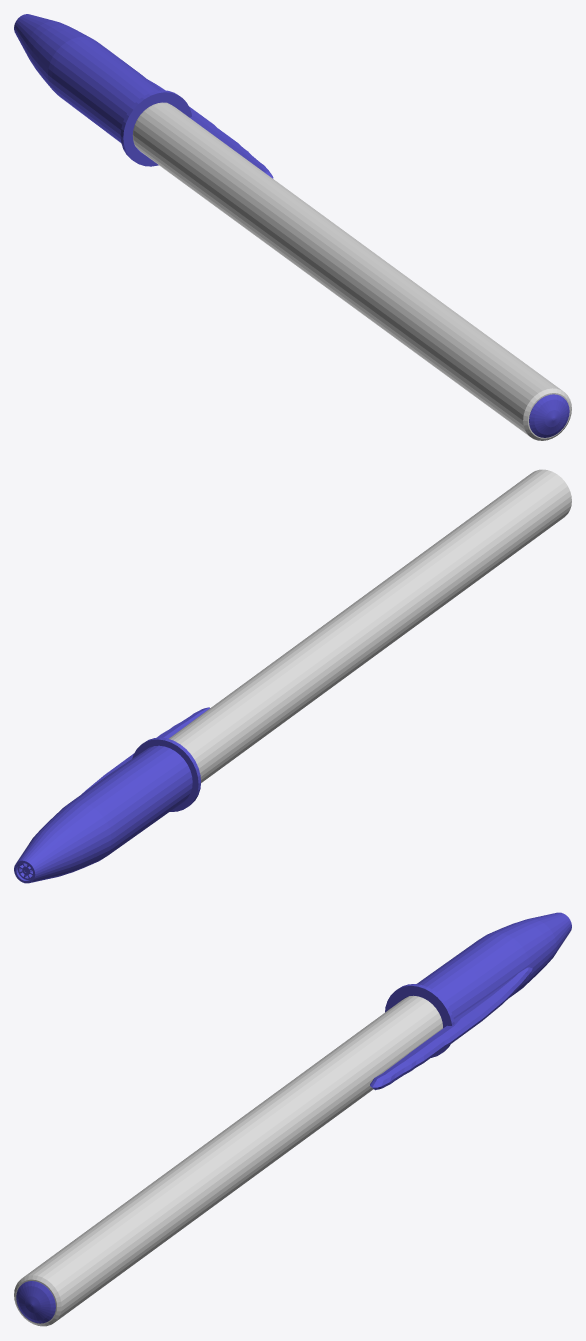
Rendered from pen.glb.
3 views of the same model, one above another, from view 1: azimuth 30°, elevation 25°; view 2: azimuth 150°, elevation 25°; view 3: azimuth 330°, elevation 25° (orthographic). The views are drawn at different scales.
Parts seen in each view (by area): view 1: Cylinder, Cylinder.001, Cylinder.002; view 2: Cylinder, Cylinder.001; view 3: Cylinder, Cylinder.001, Cylinder.002.
Part boxes in pixels (<box>): Cylinder: <box>132,102,571,440</box>; Cylinder.001: <box>14,14,273,178</box>; Cylinder.002: <box>529,394,569,437</box>; Cylinder: <box>169,469,571,782</box>; Cylinder.001: <box>14,707,209,883</box>; Cylinder: <box>14,995,442,1326</box>; Cylinder.001: <box>370,912,571,1090</box>; Cylinder.002: <box>16,1281,55,1323</box>.
Bounding box in the file's own units: 0.8343 × 0.7227 × 9.69.
